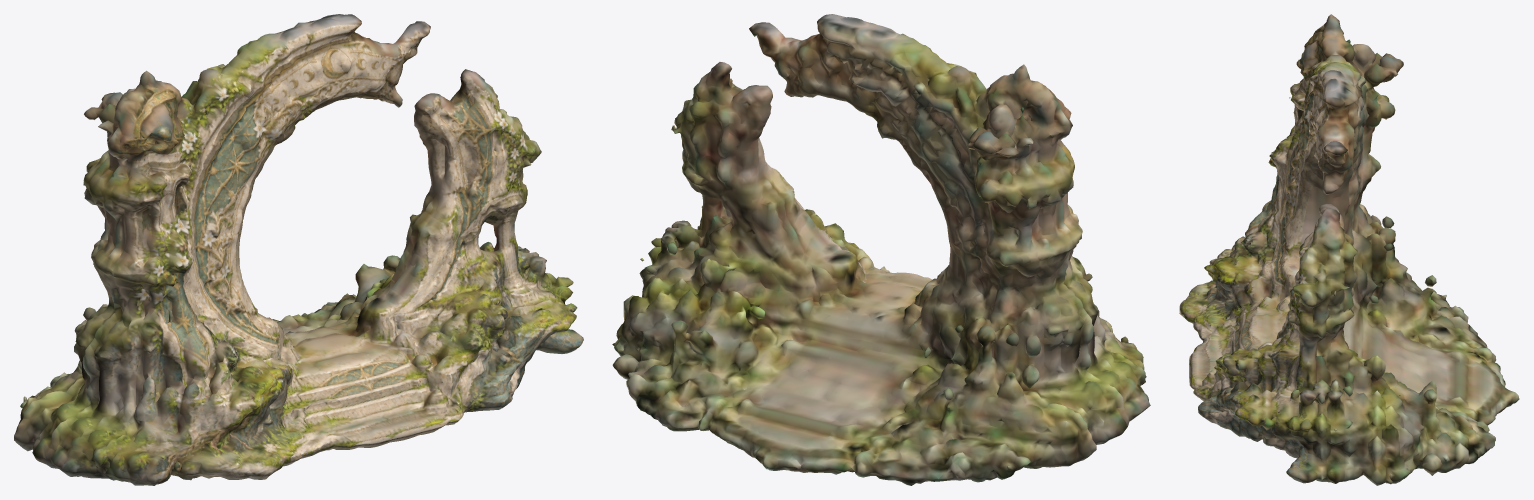
File: moon-gate.glb
3 renders of one model, left to right at view 1: azimuth 30°, elevation 25°; view 2: azimuth 150°, elevation 25°; view 3: azimuth 270°, elevation 25°, orthographic. The views are drawn at different scales.
Parts seen in each view (by area): view 1: Moon gate • original sculpt; view 2: Moon gate • original sculpt; view 3: Moon gate • original sculpt.
Part boxes in pixels (<box>): Moon gate • original sculpt: <box>14,14,583,485</box>; Moon gate • original sculpt: <box>612,14,1150,485</box>; Moon gate • original sculpt: <box>1179,14,1519,485</box>.
Bounding box in the file's own units: 9.93 × 7.2 × 6.67.
Materials: 1 (1 with a texture image).
